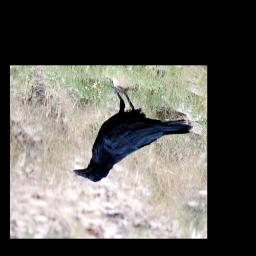Crow: (72, 82, 194, 183)
